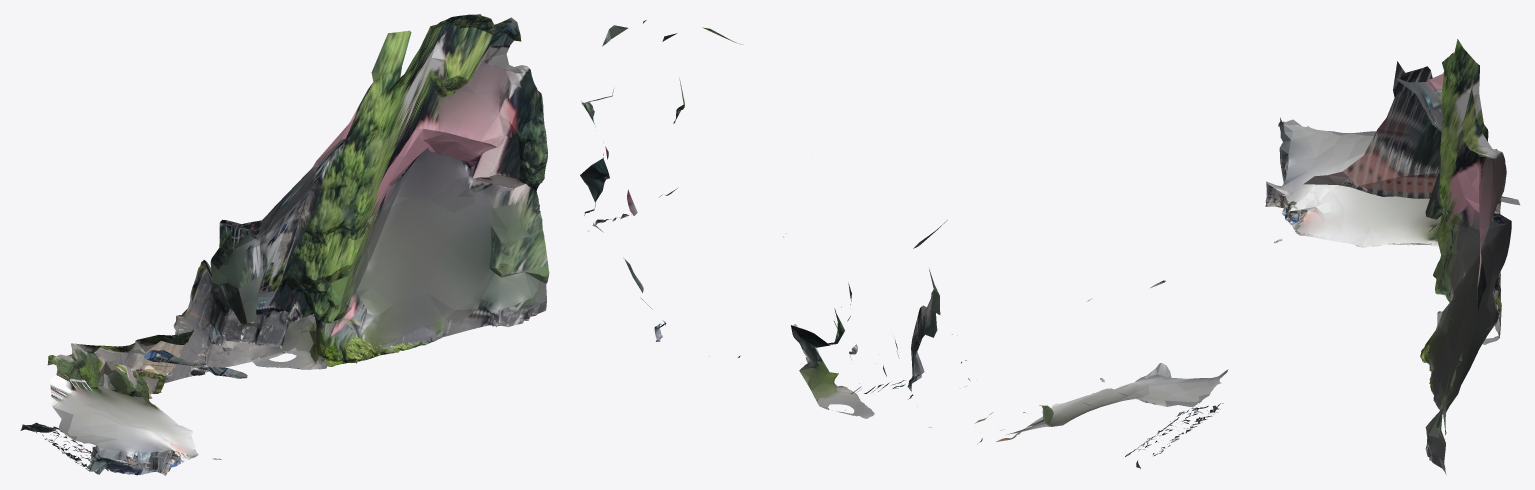
File: Tile_+002_+004.glb
3 views of the same model, side by side, from view 1: azimuth 30°, elevation 25°; view 2: azimuth 150°, elevation 25°; view 3: azimuth 270°, elevation 25° (orthographic). The views are drawn at different scales.
Parts seen in each view (by area): view 1: Node; view 2: Node; view 3: Node.
Boxes of the visible parts, x1,y1,x2,y2 form: Node: (20,14,549,475); Node: (580,20,1228,468); Node: (1265,39,1520,475).
Bounding box in the file's own units: 200 × 113 × 70.26.
1 material, 1 textured.
